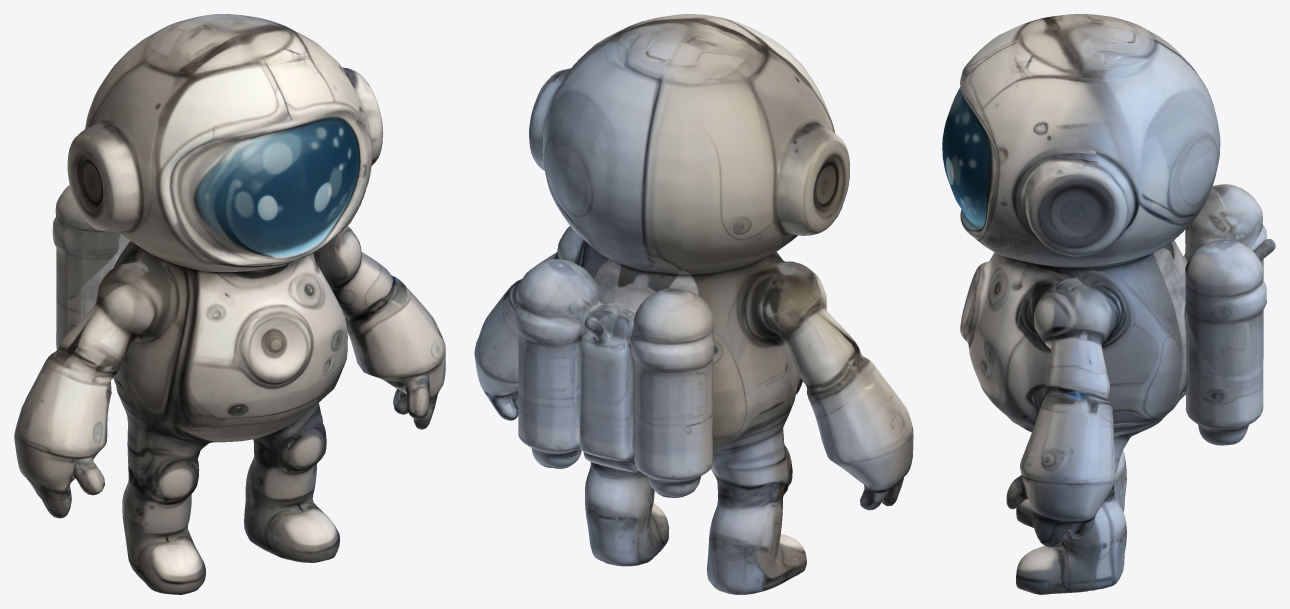
Rendered from Astronaut_Buddy_0907205605.glb.
3 renders of one model, left to right at view 1: azimuth 30°, elevation 25°; view 2: azimuth 150°, elevation 25°; view 3: azimuth 270°, elevation 25°, orthographic. The views are drawn at different scales.
Size of the model in its own units: 1.23 by 1.48 by 0.8525.
1 material, 1 textured.
